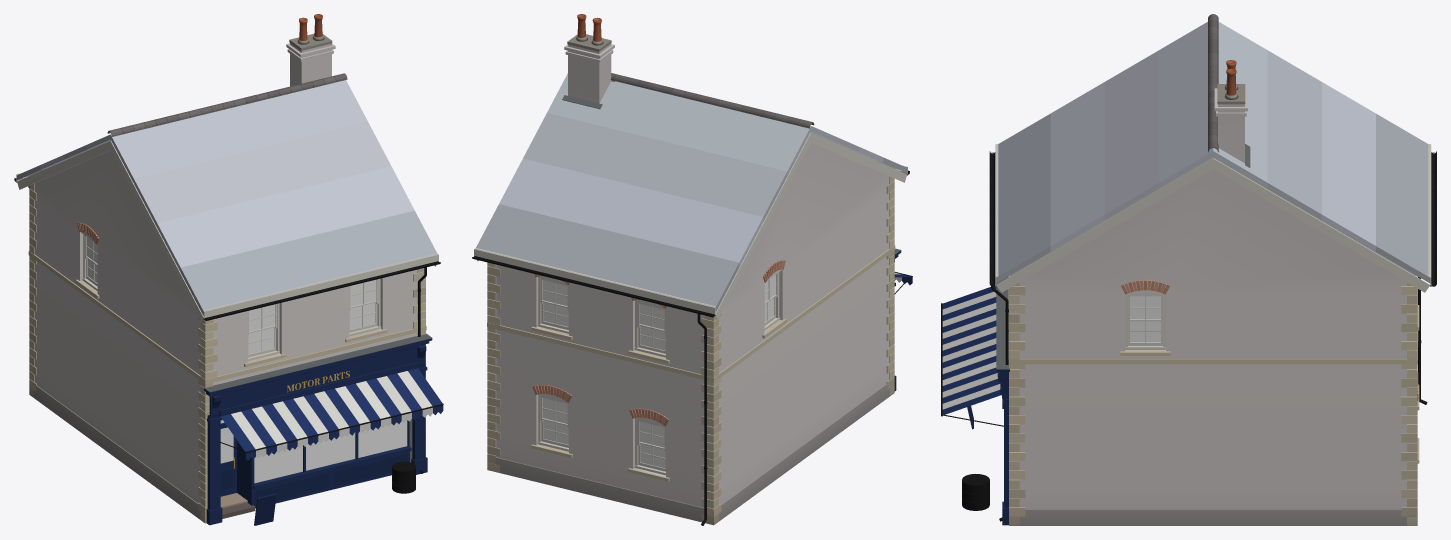
Rendered from town_shop_b.glb.
3 views of the same model, side by side, from view 1: azimuth 30°, elevation 25°; view 2: azimuth 150°, elevation 25°; view 3: azimuth 270°, elevation 25° (orthographic). The views are drawn at different scales.
Parts seen in each view (by area): view 1: body; view 2: body; view 3: body.
Part boxes in pixels (bbox=[...]): body: bbox=[14, 14, 443, 525]; body: bbox=[472, 14, 912, 525]; body: bbox=[941, 14, 1436, 525].
Size of what is drawn, in the model's own units: 6.97 by 10.95 by 10.96.
